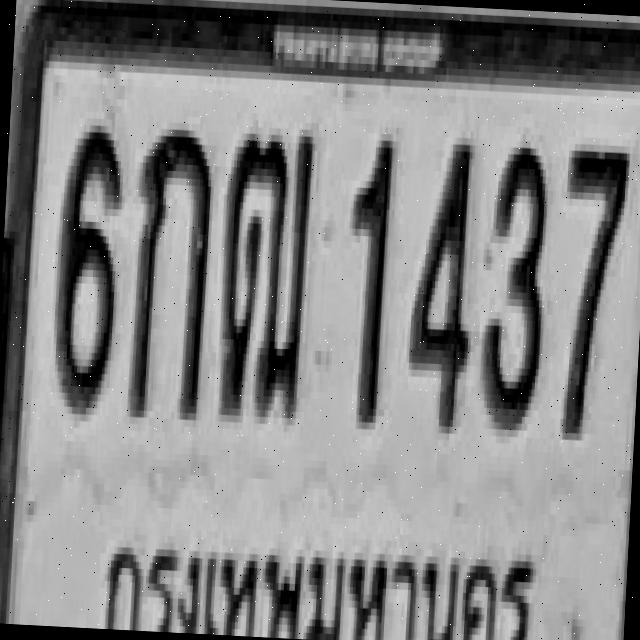1: (341, 129, 395, 427)
10GorGai: (128, 118, 215, 417)
27ThorPhuThao: (216, 126, 316, 419)
3: (478, 136, 552, 428)
4: (406, 136, 478, 428)
6: (52, 118, 125, 410)
7: (554, 140, 630, 439)
Bangkok: (102, 516, 544, 640)
